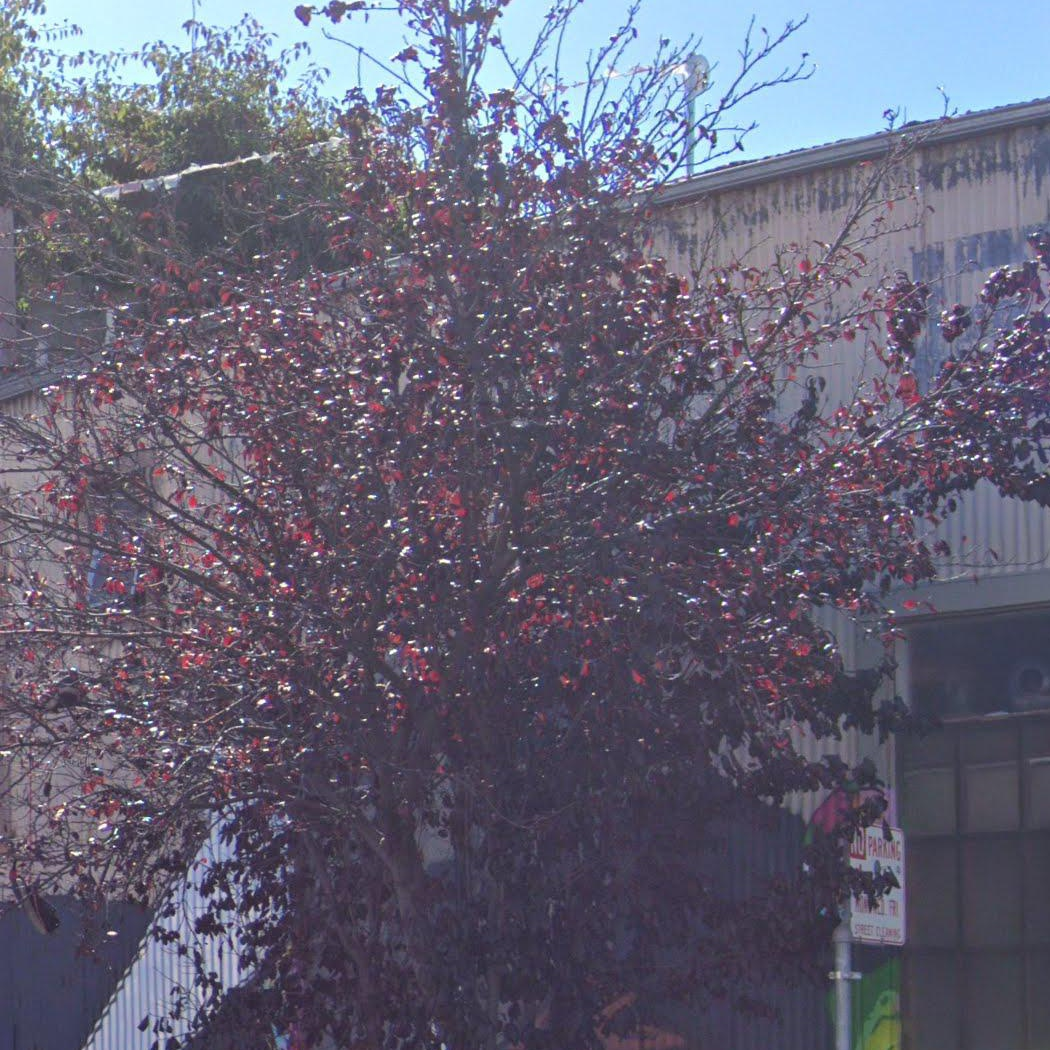No Parking: (845, 817, 909, 949)
